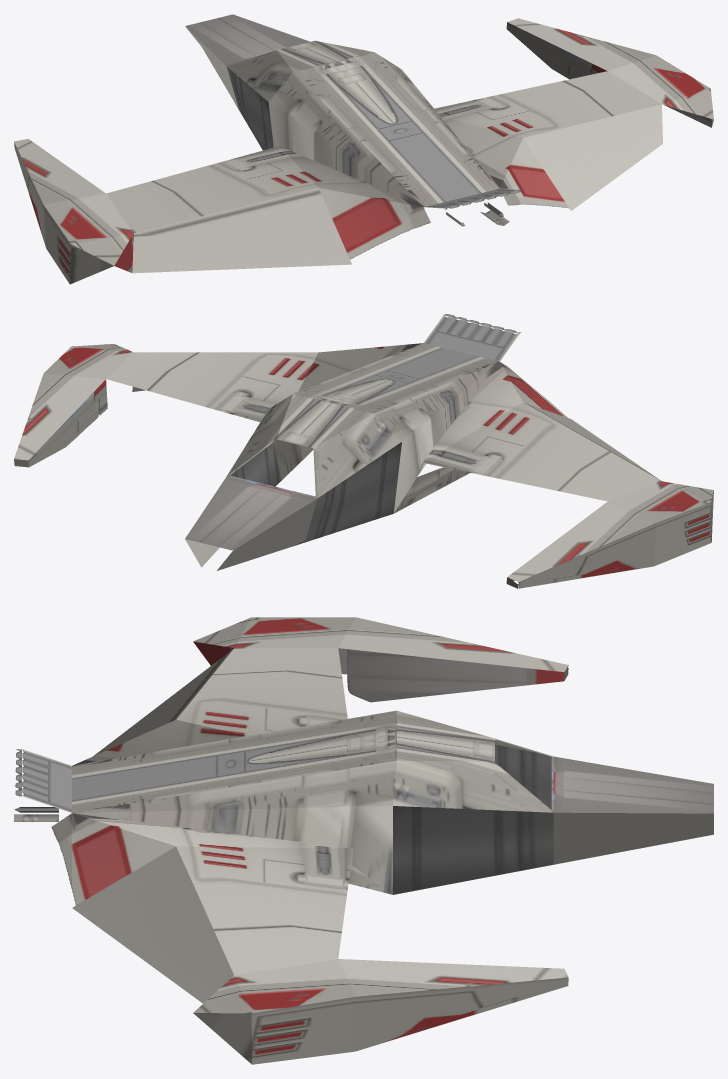
File: Nave prueba.fbx
The picture shows the model from 3 angles, top to bottom: view 1: azimuth 30°, elevation 25°; view 2: azimuth 150°, elevation 25°; view 3: azimuth 270°, elevation 25°; orthographic projection. The views are drawn at different scales.
Visible parts, largest first — view 1: Cube; view 2: Cube; view 3: Cube.
Part boxes in pixels (left/top/right/bottom): Cube: left=14, top=14, right=713, bottom=284; Cube: left=14, top=314, right=713, bottom=588; Cube: left=14, top=617, right=713, bottom=1064.
Size of the model in its own units: 14656 by 2239 by 10905.
